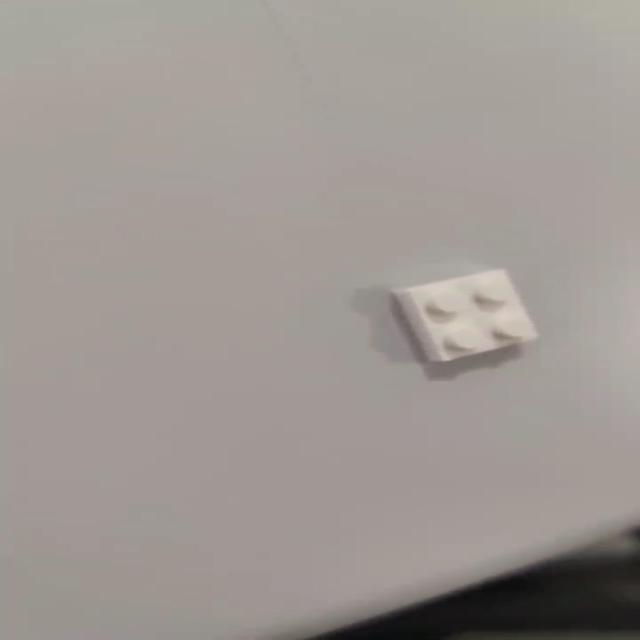C2x2x0: (398, 268, 544, 367)
